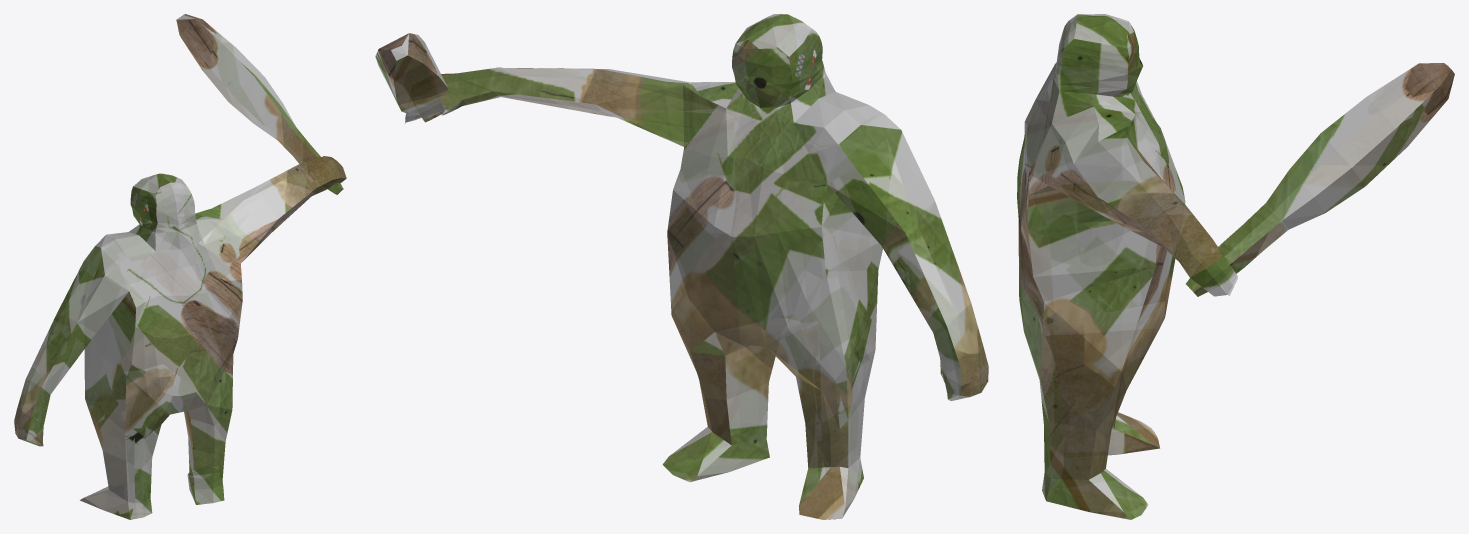
File: Enemigo215.obj
3 renders of one model, left to right at view 1: azimuth 30°, elevation 25°; view 2: azimuth 150°, elevation 25°; view 3: azimuth 270°, elevation 25°, orthographic. The views are drawn at different scales.
Visible parts, largest first — view 1: Cube; view 2: Cube; view 3: Cube.
Boxes of the visible parts, <box> form: Cube: <box>14,14,346,519</box>; Cube: <box>375,14,988,519</box>; Cube: <box>1017,14,1454,519</box>.
Size of the model in its own units: 3.15 by 3.02 by 2.33.
Materials: 1 (1 with a texture image).
